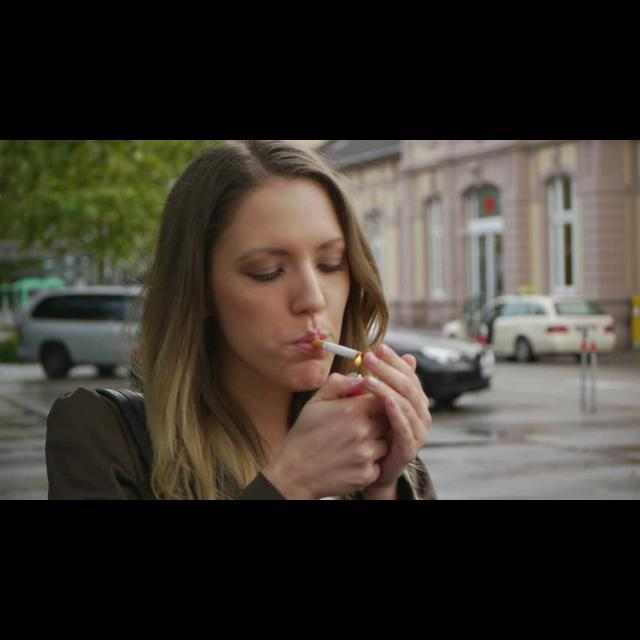rokok: (312, 332, 370, 371)
